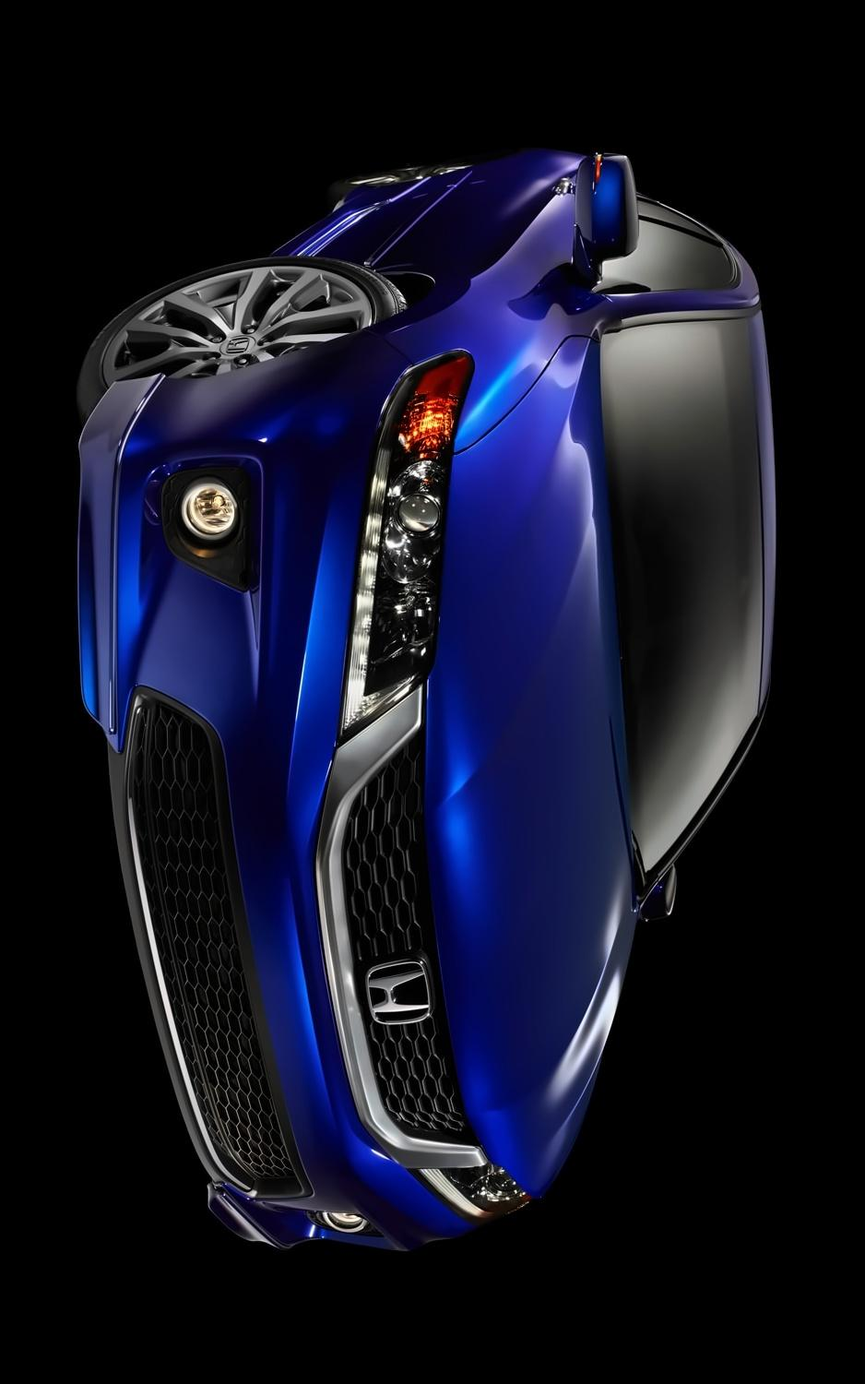Car hood: (416, 327, 654, 1207)
Driver-s door - -F-R-: (309, 206, 759, 290)
Fender - -F-R-: (348, 261, 619, 456)
Front bumper: (61, 355, 426, 1264)
Headlight - -L-: (397, 1137, 541, 1233)
Headlight - -R-: (328, 339, 483, 764)
Passenger-s door - -R-R-: (369, 166, 755, 223)
Side bumper - -R-: (258, 157, 422, 288)
Side mirror - -L-: (624, 853, 711, 944)
Side mirror - -R-: (553, 140, 649, 295)
